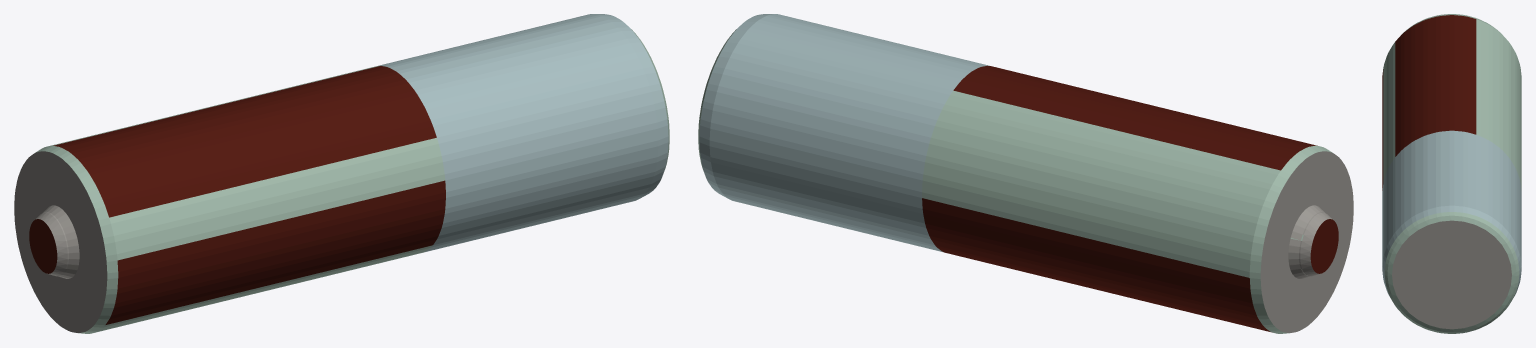
File: BatteryV1.fbx
3 views of the same model, side by side, from view 1: azimuth 30°, elevation 25°; view 2: azimuth 150°, elevation 25°; view 3: azimuth 270°, elevation 25° (orthographic). The views are drawn at different scales.
Parts seen in each view (by area): view 1: Cylinder; view 2: Cylinder; view 3: Cylinder.
Boxes of the visible parts, x1,y1,x2,y2 form: Cylinder: [14, 14, 669, 333]; Cylinder: [698, 14, 1353, 333]; Cylinder: [1382, 14, 1521, 333].
Size of the model in its own units: 23.51 by 82.4 by 23.51.
